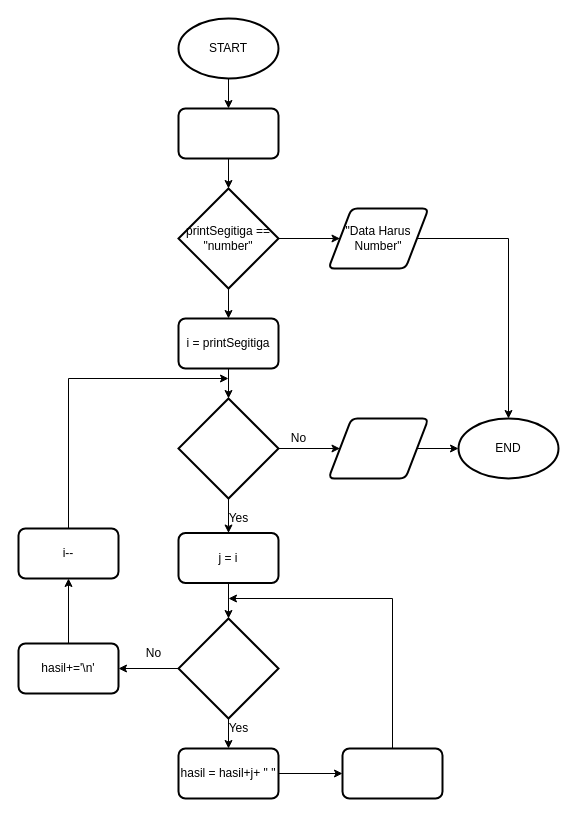
Some shapes in this 576 by 816 pixel diagram are drawn without their labels. The centre of each missing label's shape, as x and y in pixels:
"hasil": the point at 378,448
i>=1: the point at 228,448
j++: the point at 392,773
j<=i: the point at 228,668
printSegitiga = 5 hasil = "": the point at 228,133
